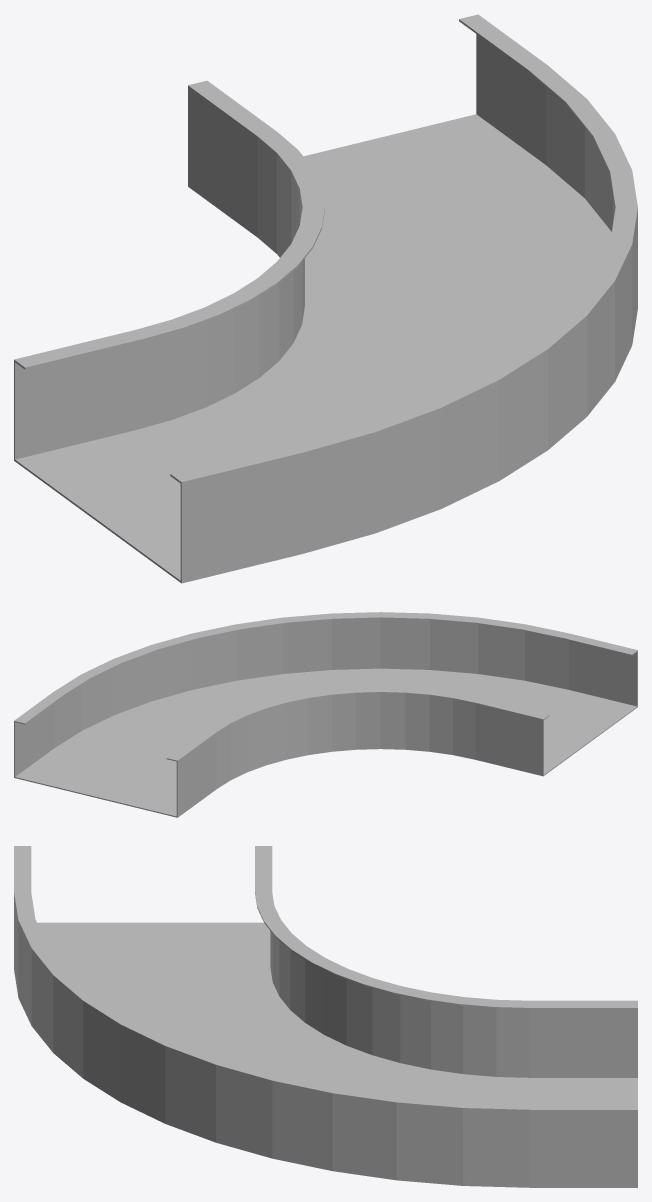
3 views of the same model, one above another, from view 1: azimuth 30°, elevation 25°; view 2: azimuth 150°, elevation 25°; view 3: azimuth 270°, elevation 25° (orthographic). The views are drawn at different scales.
Parts seen in each view (by area): view 1: node_id5; view 2: node_id5; view 3: node_id5.
Part boxes in pixels (box(x1,y1,x2,y2)): node_id5: box(14, 14, 637, 583); node_id5: box(14, 612, 637, 817); node_id5: box(14, 846, 637, 1187).
Bounding box in the file's own units: 0.512 × 0.0706 × 0.512.
1 material, 1 textured.
